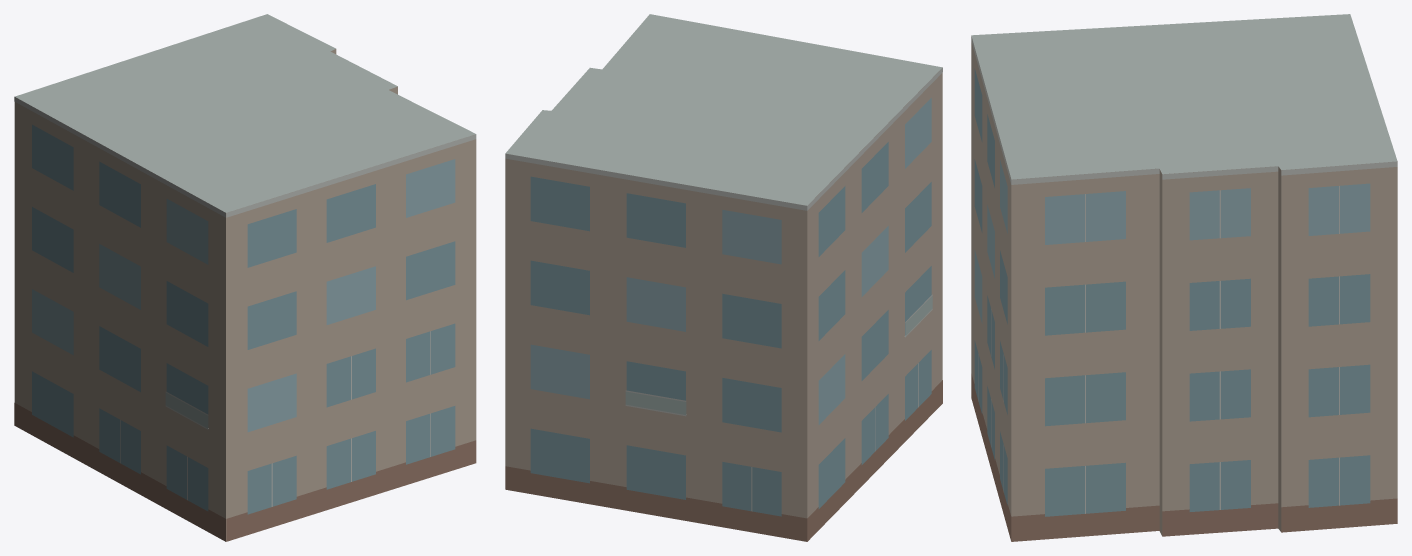
File: survey-upis-32821164.glb
3 views of the same model, side by side, from view 1: azimuth 30°, elevation 25°; view 2: azimuth 150°, elevation 25°; view 3: azimuth 270°, elevation 25° (orthographic). The views are drawn at different scales.
Parts seen in each view (by area): view 1: survey-upis-32821164.tmp; view 2: survey-upis-32821164.tmp; view 3: survey-upis-32821164.tmp.
Part boxes in pixels (x1=…): survey-upis-32821164.tmp: x1=14, y1=14, x2=476, y2=541; survey-upis-32821164.tmp: x1=505, y1=14, x2=942, y2=541; survey-upis-32821164.tmp: x1=971, y1=14, x2=1397, y2=541.
Bounding box in the file's own units: 15.93 × 16.25 × 17.34.
